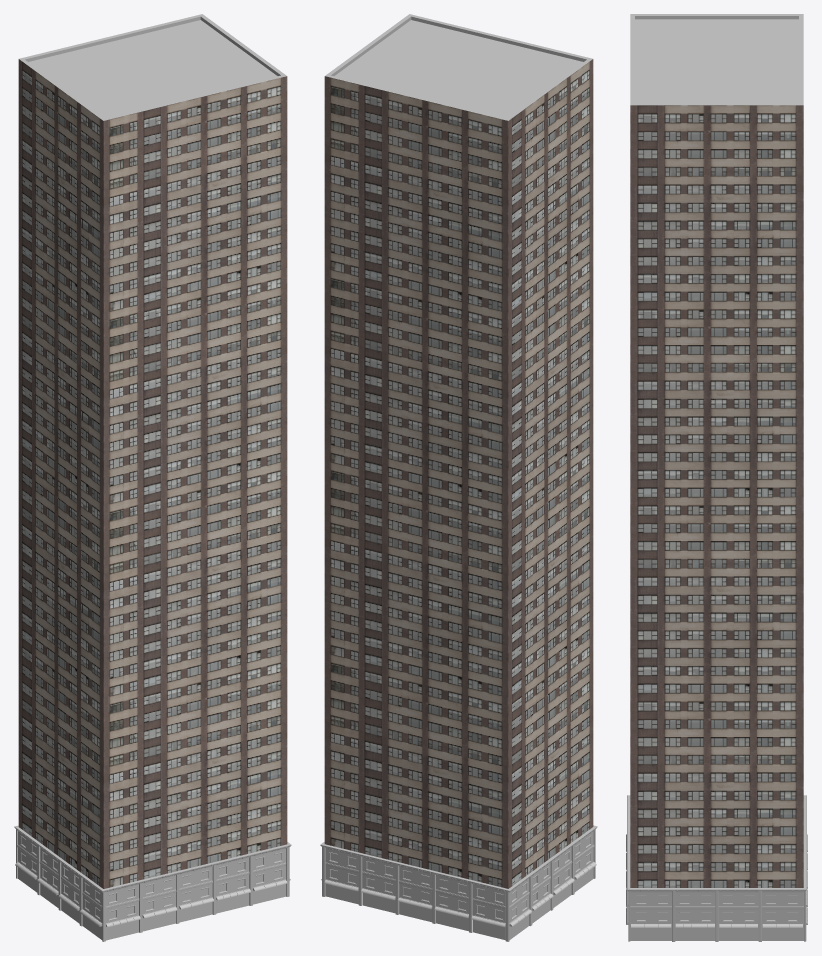
Rendered from High RIse Building 41.fbx.
3 renders of one model, left to right at view 1: azimuth 30°, elevation 25°; view 2: azimuth 150°, elevation 25°; view 3: azimuth 270°, elevation 25°, orthographic.
Visible parts, largest first — view 1: Top, Part_3, Part_2, Part_1, Base; view 2: Top, Part_3, Part_2, Part_1, Base; view 3: Top, Part_2, Part_3, Part_1, Base.
Boxes of the visible parts, left/top/right/bottom form: Top: left=18, top=14, right=287, bottom=313; Part_3: left=18, top=251, right=287, bottom=505; Part_2: left=18, top=444, right=287, bottom=697; Part_1: left=18, top=636, right=287, bottom=888; Base: left=14, top=825, right=291, bottom=941; Top: left=324, top=14, right=593, bottom=313; Part_3: left=324, top=251, right=593, bottom=505; Part_2: left=324, top=444, right=593, bottom=697; Part_1: left=324, top=636, right=593, bottom=888; Base: left=320, top=825, right=597, bottom=941; Top: left=630, top=14, right=803, bottom=301; Part_2: left=630, top=497, right=803, bottom=693; Part_3: left=630, top=301, right=803, bottom=497; Part_1: left=630, top=693, right=803, bottom=887; Base: left=626, top=795, right=807, bottom=941.
Bounding box in the file's own units: 4163 × 17050 × 3365.
